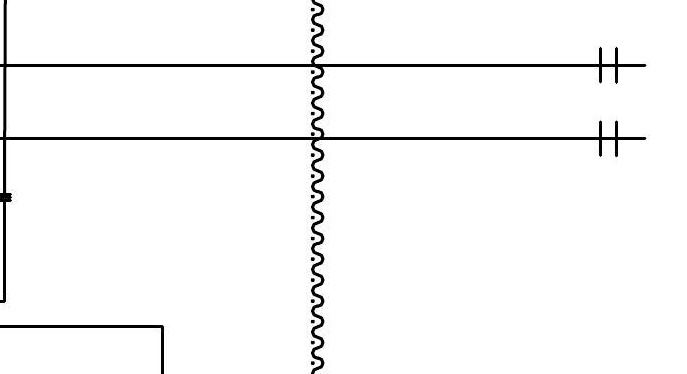115_buffer: (599, 47, 618, 84), (599, 120, 618, 157)
